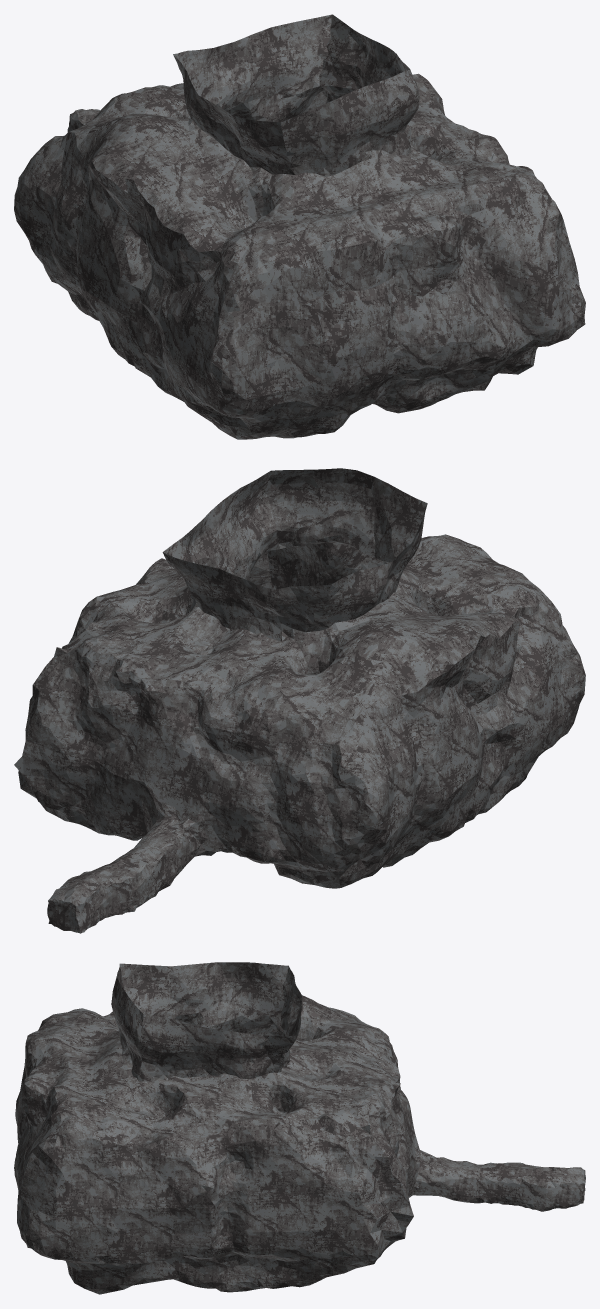
File: caveV2.glb
The picture shows the model from 3 angles, top to bottom: view 1: azimuth 30°, elevation 25°; view 2: azimuth 150°, elevation 25°; view 3: azimuth 270°, elevation 25°; orthographic projection. The views are drawn at different scales.
Visible parts, largest first — view 1: Cube; view 2: Cube; view 3: Cube.
Part boxes in pixels (x1,y1,x2,y2): Cube: (14, 14, 585, 439); Cube: (14, 468, 585, 933); Cube: (14, 962, 585, 1294).
Bounding box in the file's own units: 55.02 × 42.49 × 86.56.
1 material, 1 textured.
